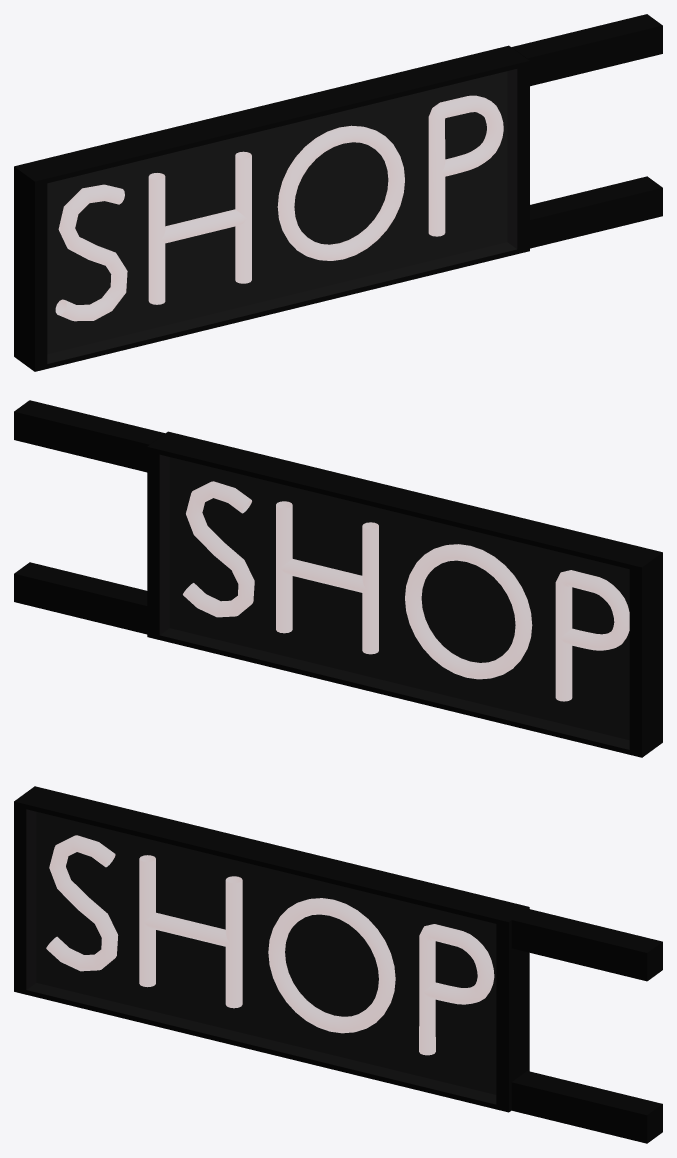
The model's file is Neon sign.glb.
3 renders of one model, top to bottom at view 1: azimuth 30°, elevation 25°; view 2: azimuth 150°, elevation 25°; view 3: azimuth 330°, elevation 25°, orthographic.
Visible parts, largest first — view 1: Cube, Plane, Plane.002, Cube.001, Cube.002; view 2: Cube, Plane.001, Plane.003, Cube.001, Cube.002; view 3: Cube, Plane, Plane.002, Cube.001, Cube.002.
Boxes of the visible parts, x1,y1,x2,y2 form: Cube: (14, 45, 529, 371); Plane: (47, 69, 516, 363); Plane.002: (55, 95, 503, 321); Cube.001: (511, 14, 662, 86); Cube.002: (530, 176, 662, 248); Cube: (147, 431, 662, 757); Plane.001: (160, 455, 629, 749); Plane.003: (183, 481, 629, 701); Cube.001: (14, 400, 164, 472); Cube.002: (14, 562, 147, 634); Cube: (14, 786, 529, 1112); Plane: (26, 810, 495, 1103); Plane.002: (46, 835, 494, 1055); Cube.001: (511, 908, 662, 981); Cube.002: (511, 1071, 662, 1143).
Bounding box in the file's own units: 3.49 × 1.01 × 0.1997.
